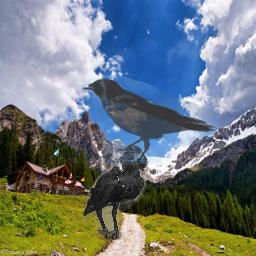Crow: (81, 75, 217, 164), (83, 145, 148, 240)
